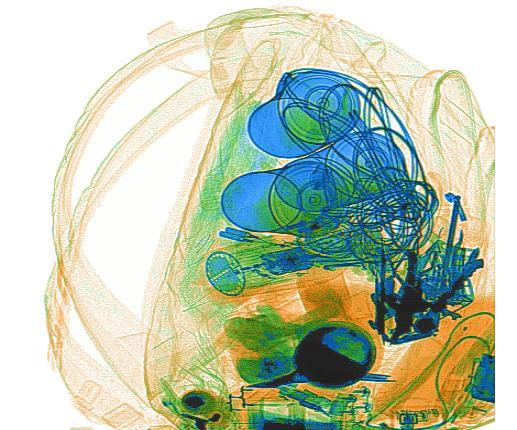pressure: (216, 64, 407, 241)
